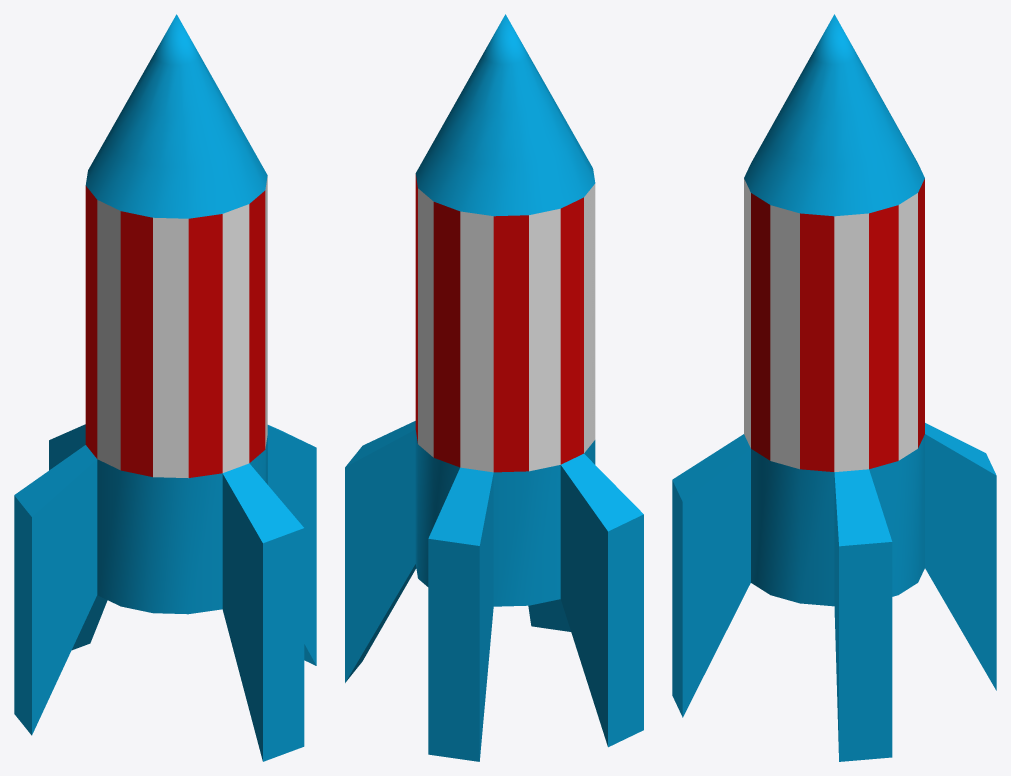
File: starship.glb
3 views of the same model, side by side, from view 1: azimuth 30°, elevation 25°; view 2: azimuth 150°, elevation 25°; view 3: azimuth 270°, elevation 25° (orthographic).
Parts seen in each view (by area): view 1: starship-Mat.2 (×2), starship-Mat, starship-Mat.1; view 2: starship-Mat.2 (×2), starship-Mat.1, starship-Mat; view 3: starship-Mat.2 (×2), starship-Mat.1, starship-Mat.
Part boxes in pixels (x1=…): starship-Mat.2 (×2): x1=14, y1=14, x2=316, y2=761; starship-Mat: x1=85, y1=186, x2=265, y2=477; starship-Mat.1: x1=97, y1=176, x2=267, y2=478; starship-Mat.2 (×2): x1=345, y1=14, x2=643, y2=761; starship-Mat.1: x1=418, y1=184, x2=595, y2=472; starship-Mat: x1=415, y1=174, x2=583, y2=472; starship-Mat.2 (×2): x1=672, y1=14, x2=996, y2=761; starship-Mat.1: x1=744, y1=178, x2=917, y2=472; starship-Mat: x1=751, y1=178, x2=924, y2=471.
Size of the model in its own units: 3.59 by 8.28 by 3.59.
